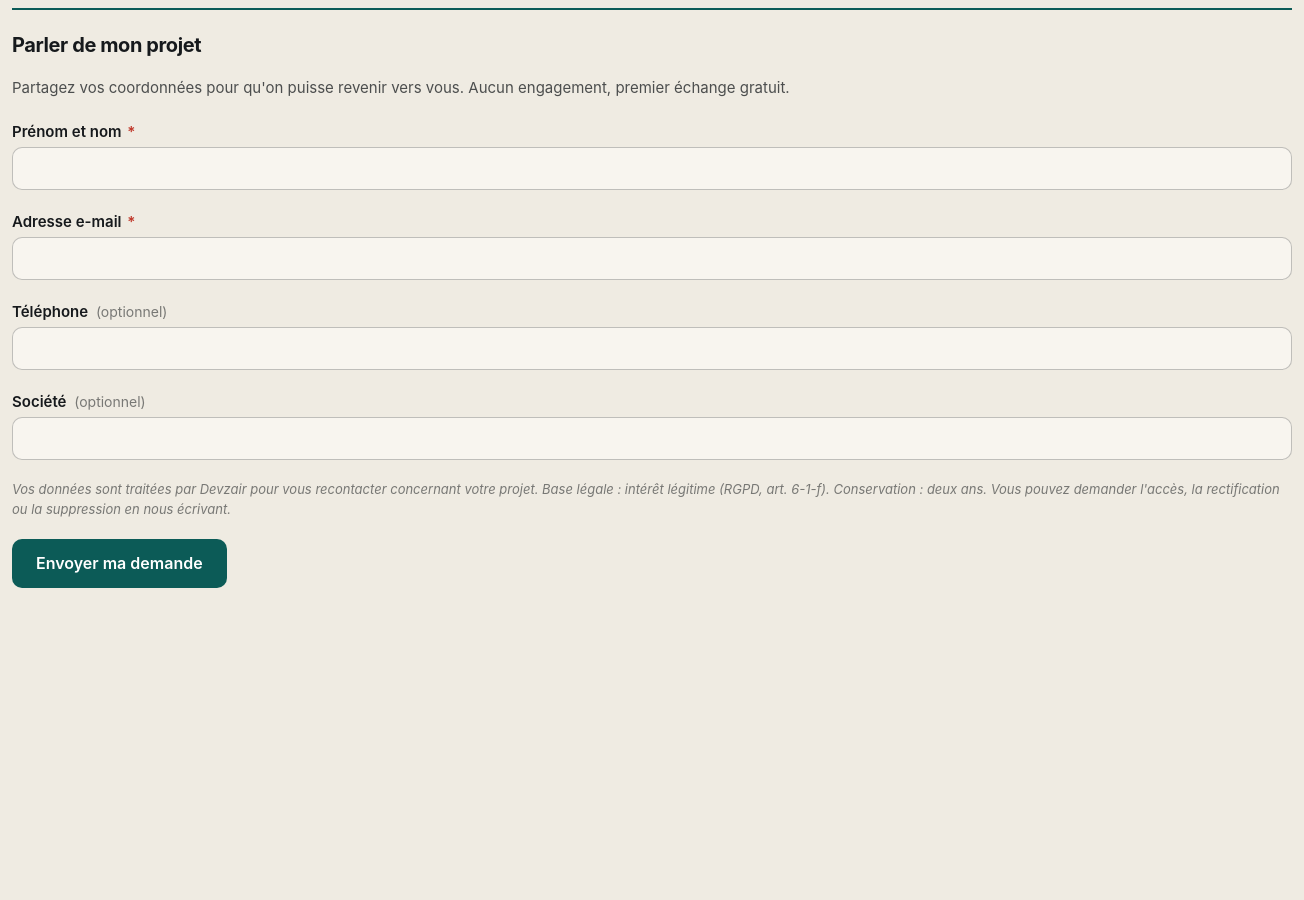
Test case: EstimatorLeadForm — validation › affiche une erreur si email invalide au submit
The width and height of the screenshot is (1304, 900).
In the field named "name": (652, 169) [12,147,1292,190], type "Jean Dupont"
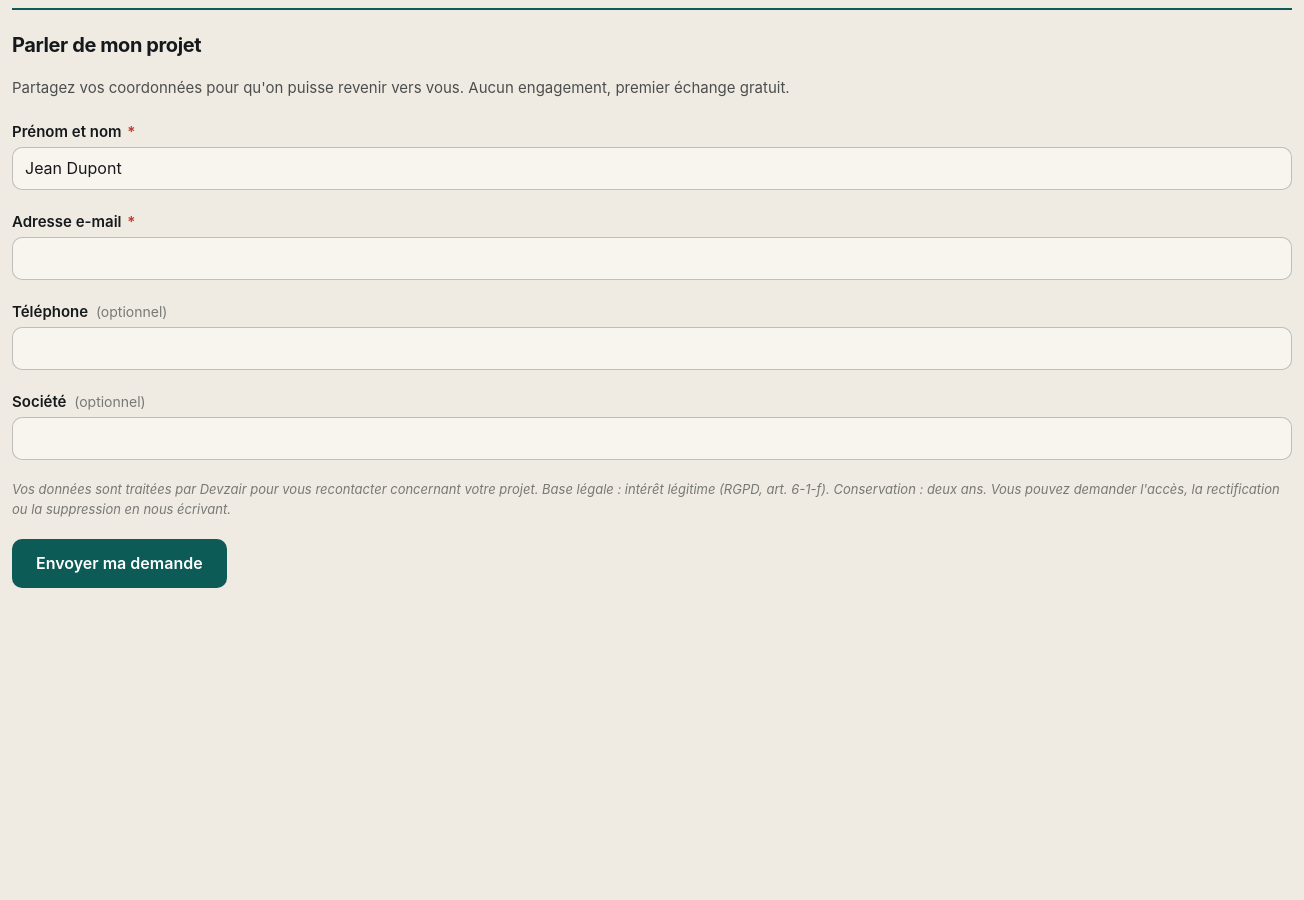
In the field named "email": (652, 259) [12,237,1292,280], type "not-an-email"
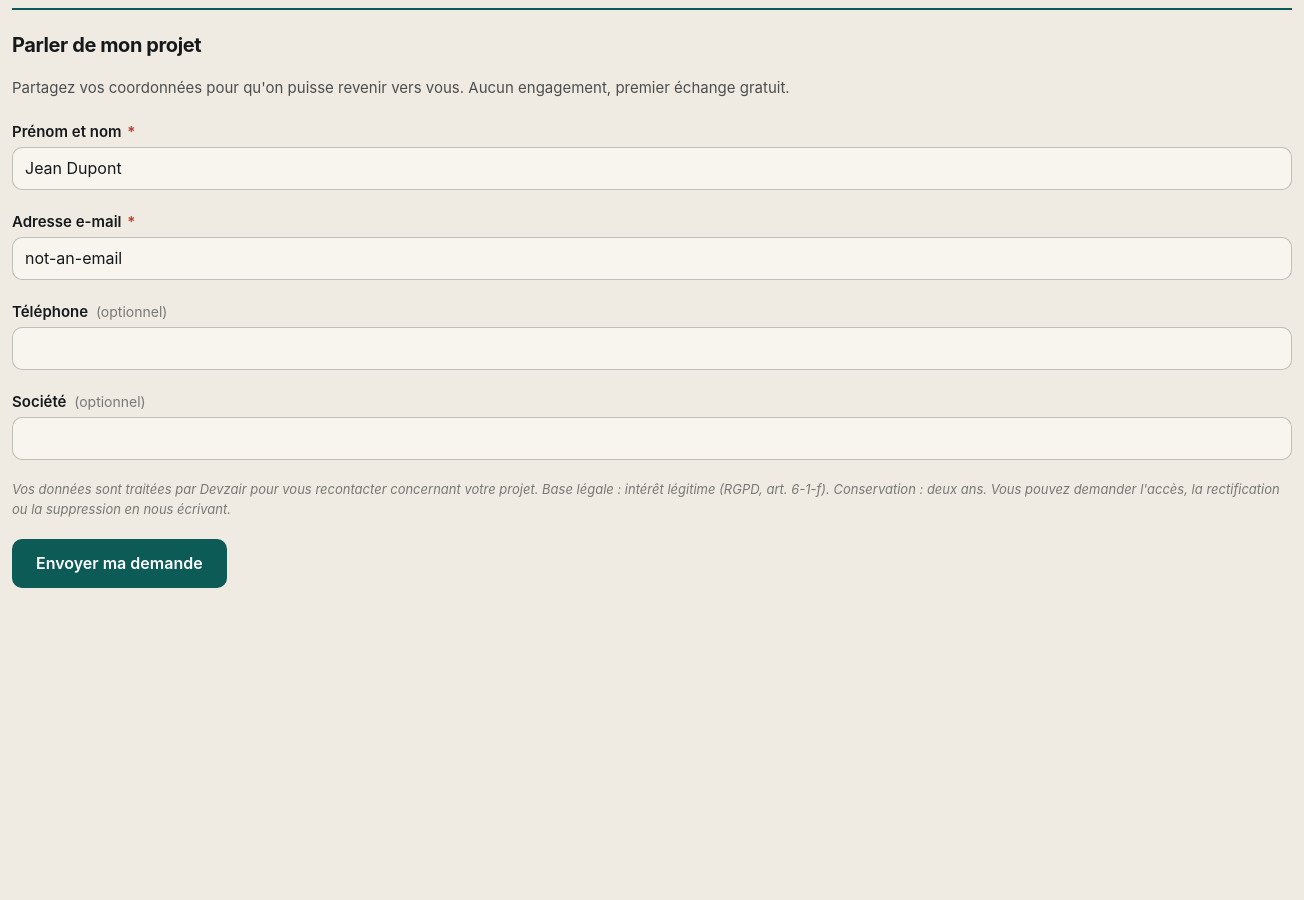
Submit the form
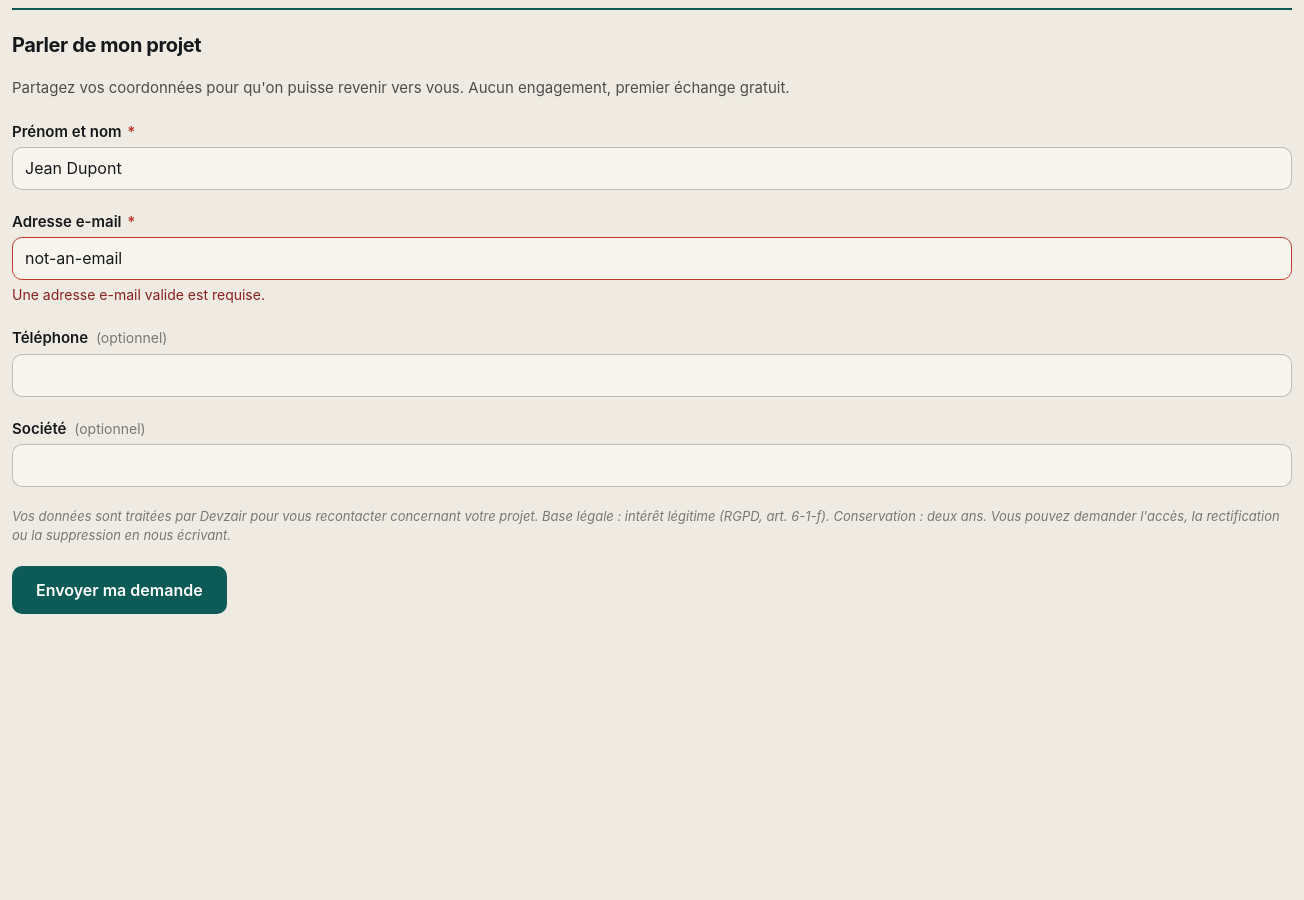
Result: the text "valide" is shown at [12,286,265,303]
